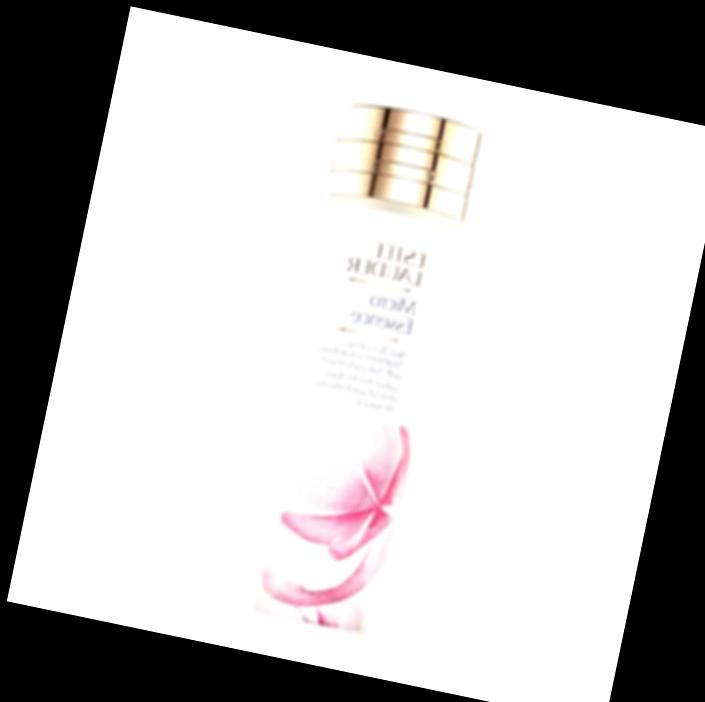cosmetic: (241, 102, 476, 636)
